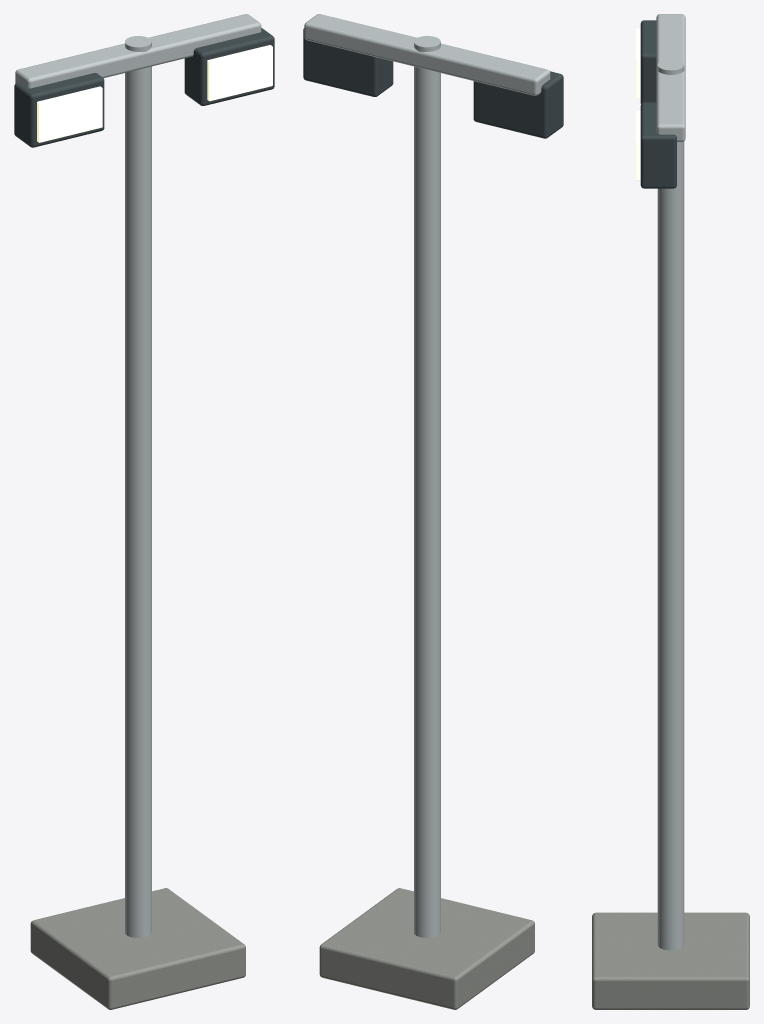
The model's file is hydroelectric-dam-infiltration-floodlight-mast-57a64541__29376.glb.
The picture shows the model from 3 angles, left to right: view 1: azimuth 30°, elevation 25°; view 2: azimuth 150°, elevation 25°; view 3: azimuth 270°, elevation 25°; orthographic projection.
Parts seen in each view (by area): view 1: floodlight-mast; view 2: floodlight-mast; view 3: floodlight-mast.
Part boxes in pixels (left/top/right/bottom): floodlight-mast: left=14, top=14, right=274, bottom=1009; floodlight-mast: left=303, top=14, right=563, bottom=1009; floodlight-mast: left=592, top=14, right=749, bottom=1009.
Size of the model in its own units: 1.15 by 4.15 by 0.65.
Materials: 4 (1 with a texture image).
